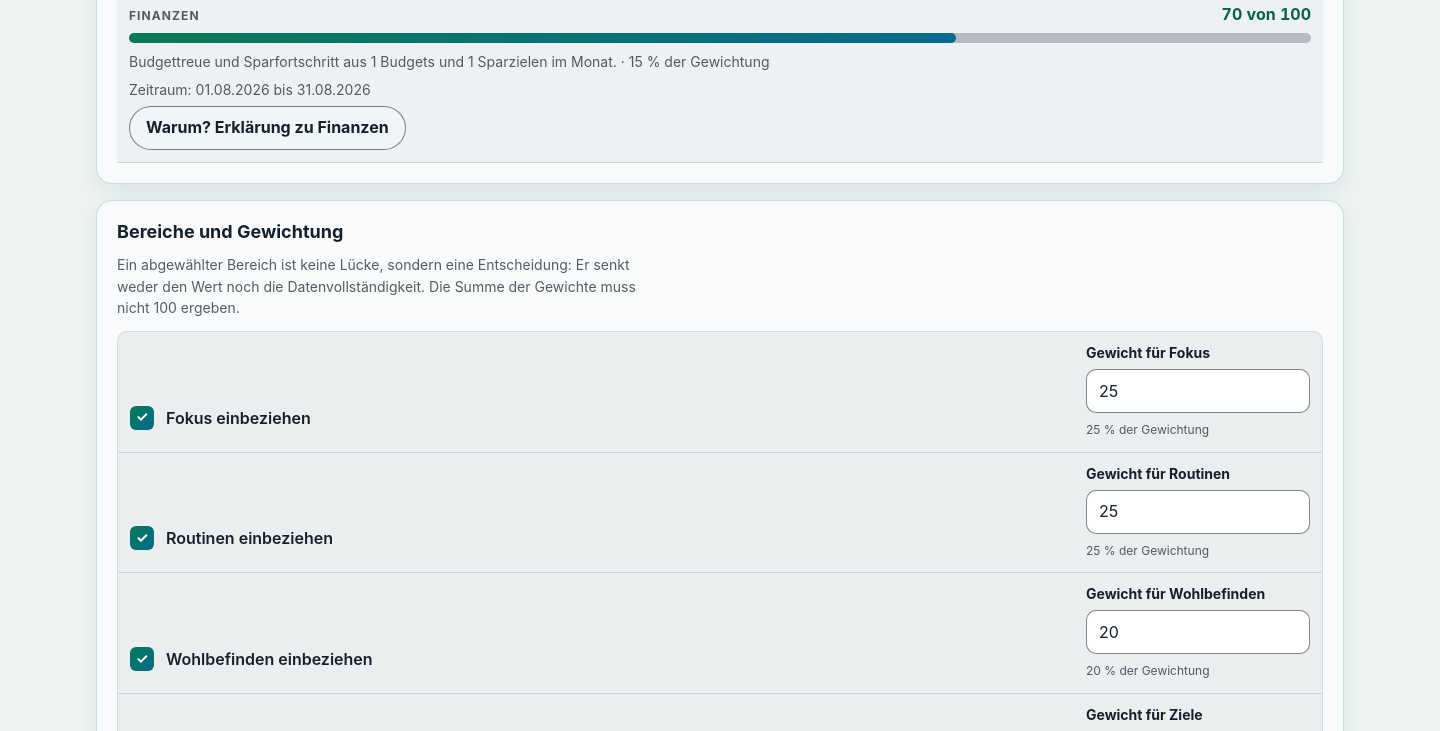
Test: InsightsPage – Bereiche und Gewichtung › previews the effect of a weight before it is saved
(page scrolled)
Replace the text in the number field labelled "Gewicht für Fokus" with "50" at (1198, 391), box [1086,369,1310,413]
(page scrolled)
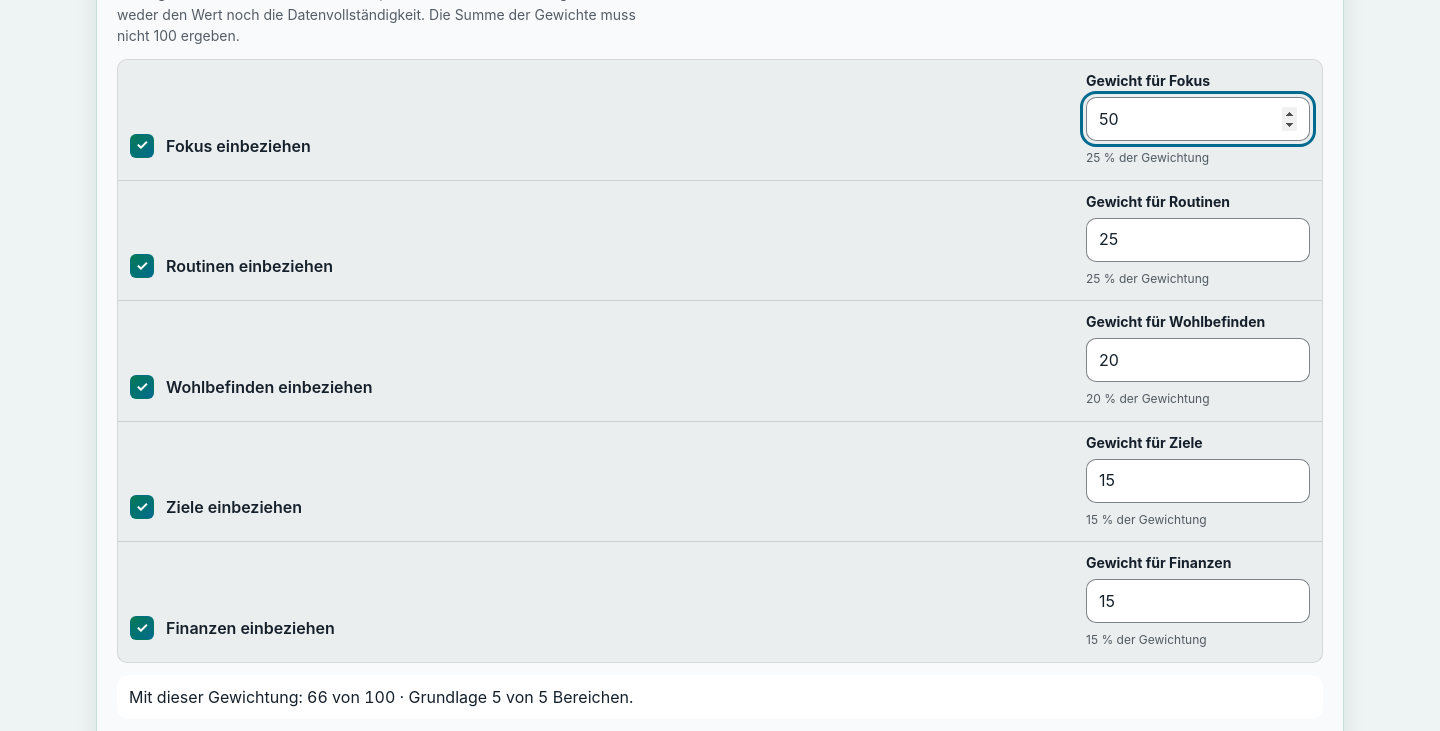
Expected: the text "Mit dieser Gewichtung: 66 von 100 · Grundlage 5 von 5 Bereichen." is shown, [117,675,1323,719]
